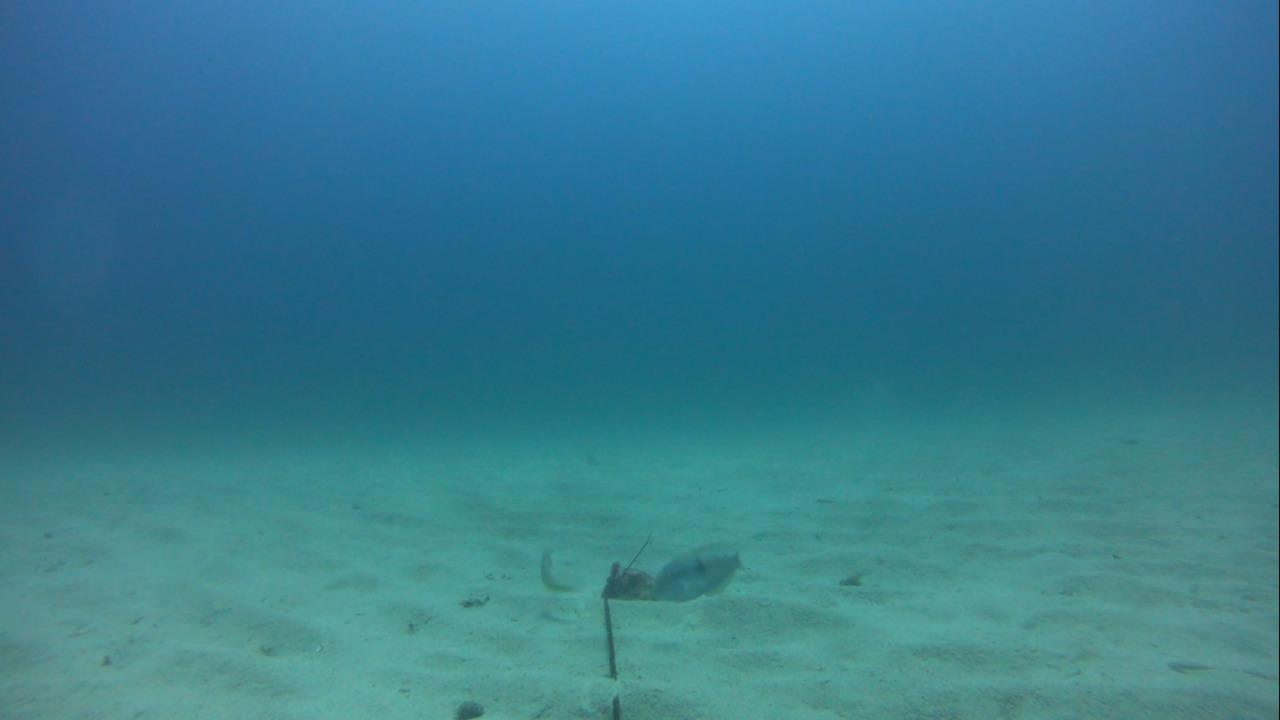raor: (649, 547, 749, 604), (533, 536, 581, 595)
